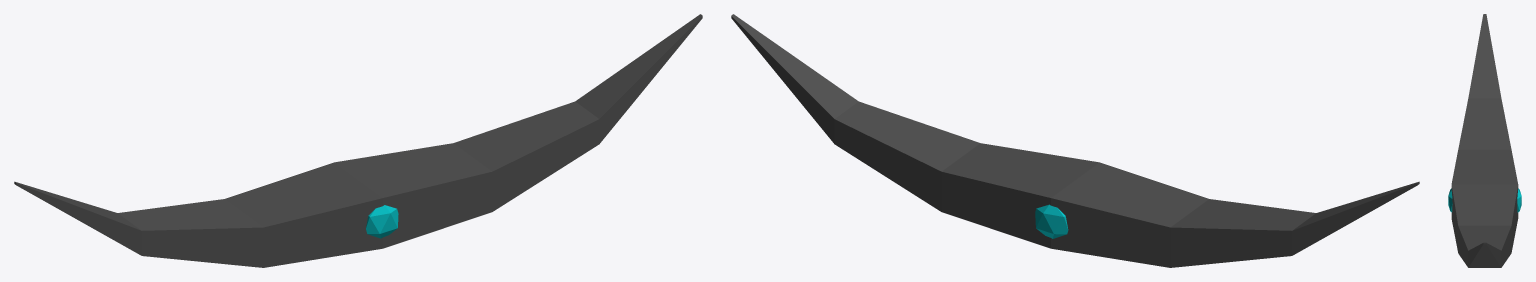
The model's file is ModularSwordKit_Parierstange01_Gem.fbx.
3 views of the same model, side by side, from view 1: azimuth 30°, elevation 25°; view 2: azimuth 150°, elevation 25°; view 3: azimuth 270°, elevation 25° (orthographic). The views are drawn at different scales.
Parts seen in each view (by area): view 1: Parierstange01_Gem; view 2: Parierstange01_Gem; view 3: Parierstange01_Gem.
Boxes of the visible parts, x1,y1,x2,y2 form: Parierstange01_Gem: (14,14,702,267); Parierstange01_Gem: (731,14,1419,267); Parierstange01_Gem: (1448,14,1521,267).
Size of the model in its own units: 115 by 21.09 by 15.53.
